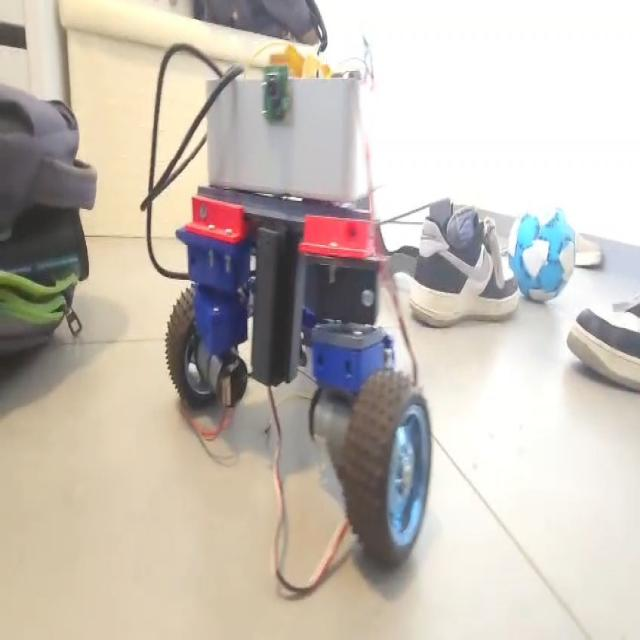Robot: (166, 49, 432, 568)
